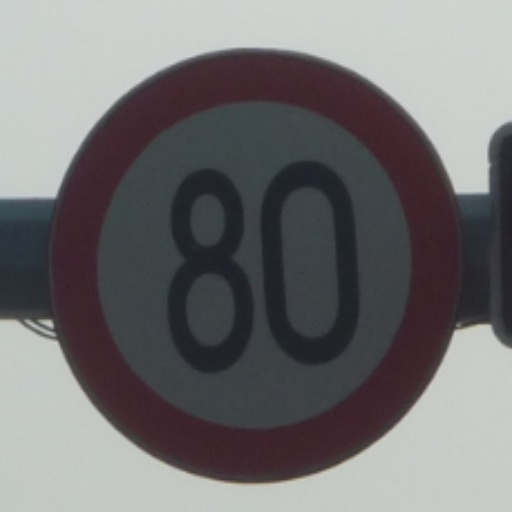Speed limit: (55, 66, 453, 460)
